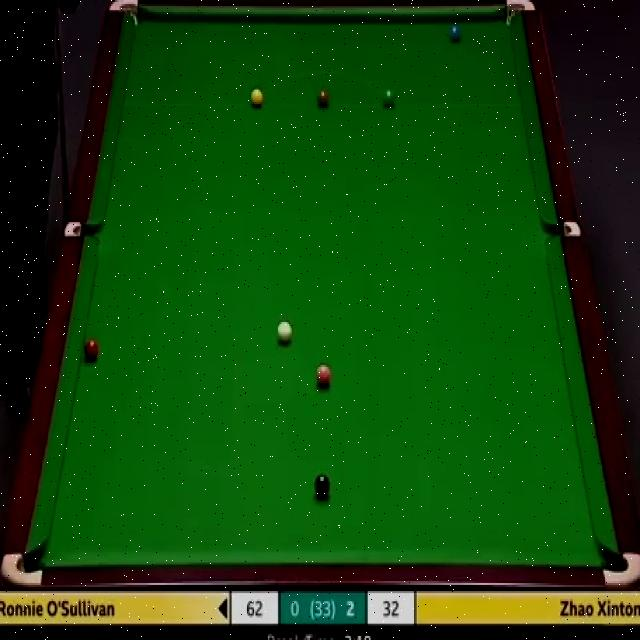black-ball: (314, 472, 329, 498)
blue-ball: (448, 24, 462, 43)
brown-ball: (316, 90, 330, 106)
green-ball: (382, 86, 396, 110)
pink-ball: (314, 361, 332, 394)
red-ball: (84, 337, 100, 361)
white-ball: (277, 324, 295, 351)
yellow-ball: (249, 86, 264, 108)
